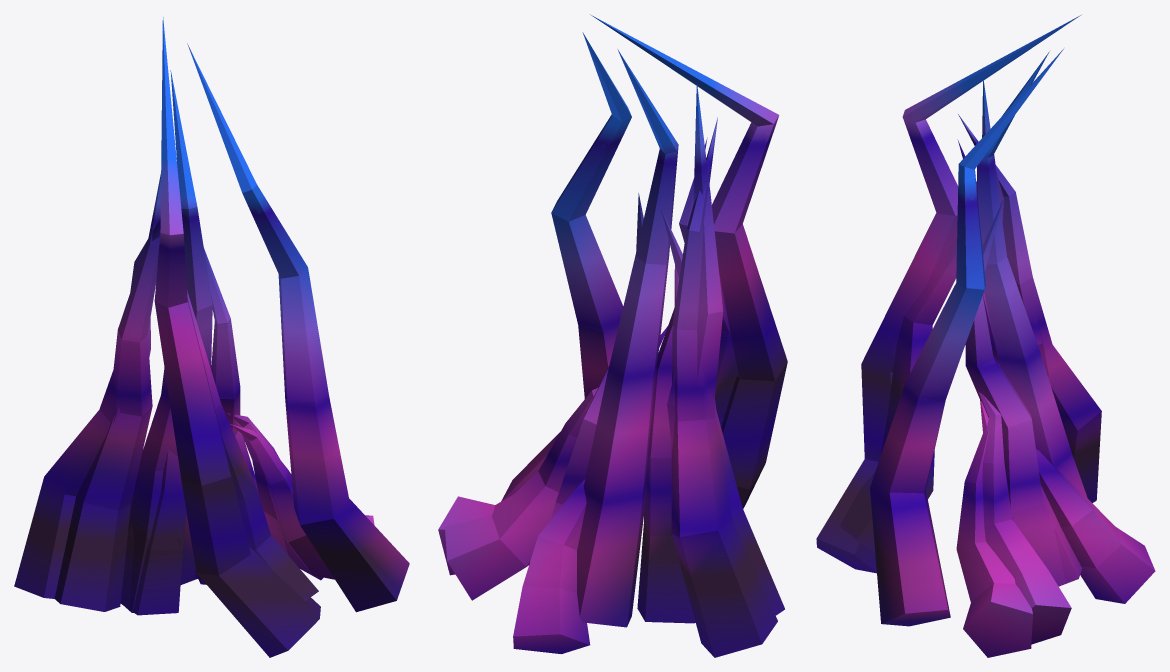
The model's file is procedural_thorns.fbx.
3 views of the same model, side by side, from view 1: azimuth 30°, elevation 25°; view 2: azimuth 150°, elevation 25°; view 3: azimuth 270°, elevation 25° (orthographic). The views are drawn at different scales.
Visible parts, largest first — view 1: Cube.002; view 2: Cube.002; view 3: Cube.002.
Part boxes in pixels (<box>): Cube.002: <box>14,17,409,657</box>; Cube.002: <box>438,14,787,657</box>; Cube.002: <box>816,15,1155,657</box>.
Size of the model in its own units: 210 by 365 by 195.
